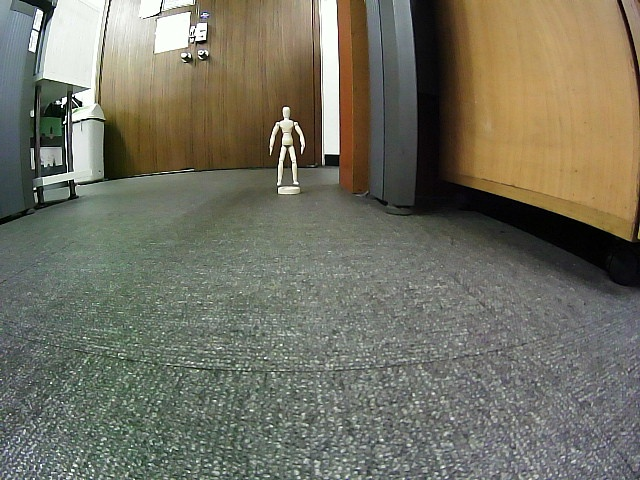person: (269, 105, 305, 185)
